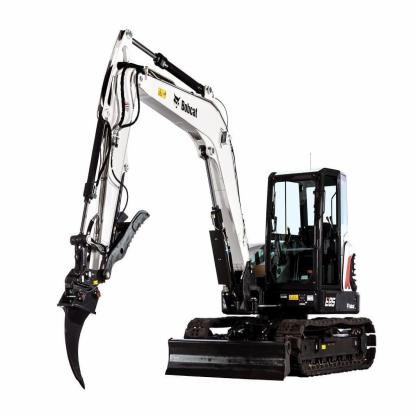excavator: (32, 16, 382, 384)
